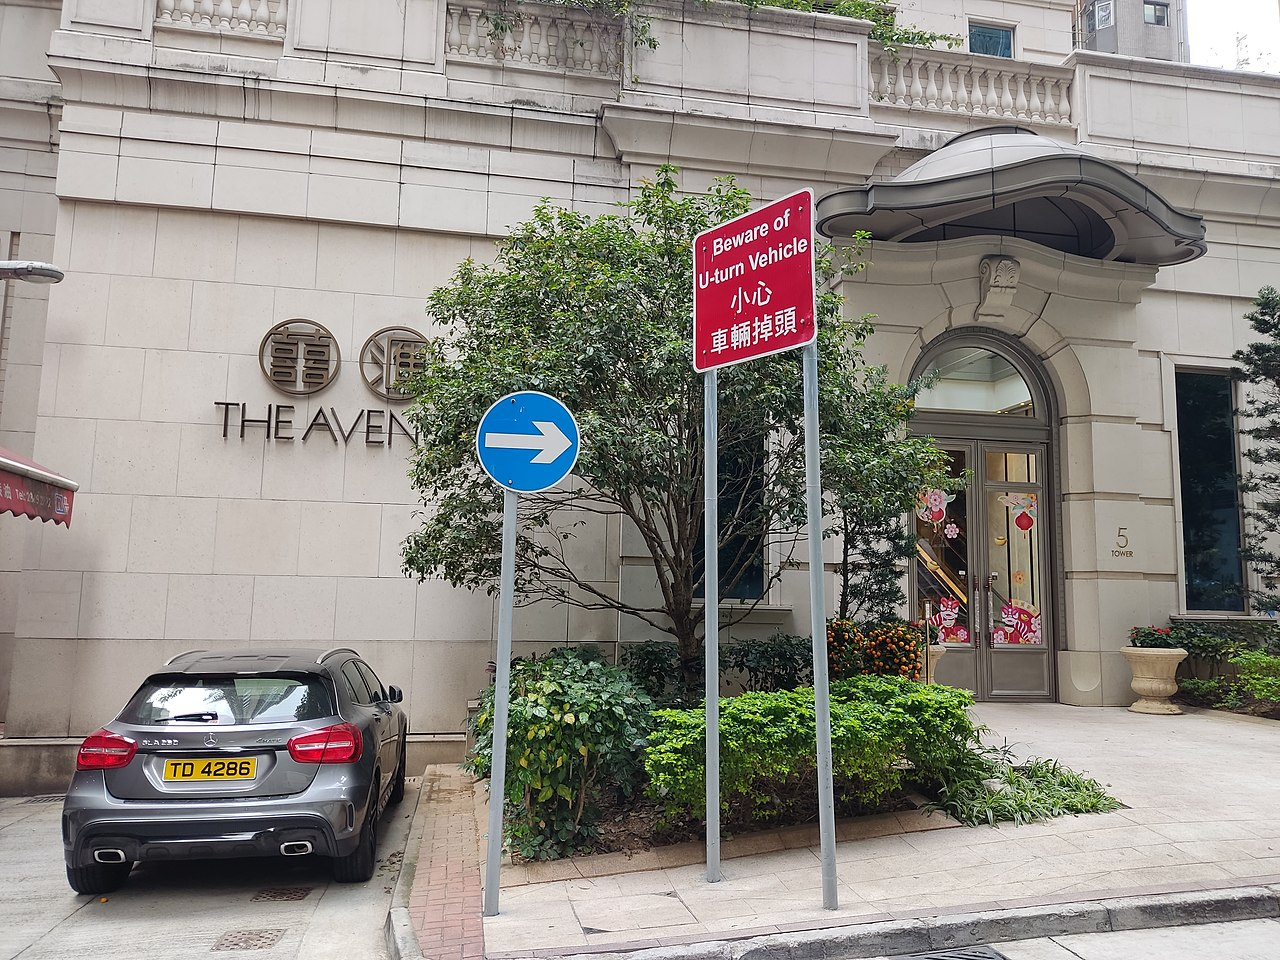Turn Right: (478, 386, 578, 494)
